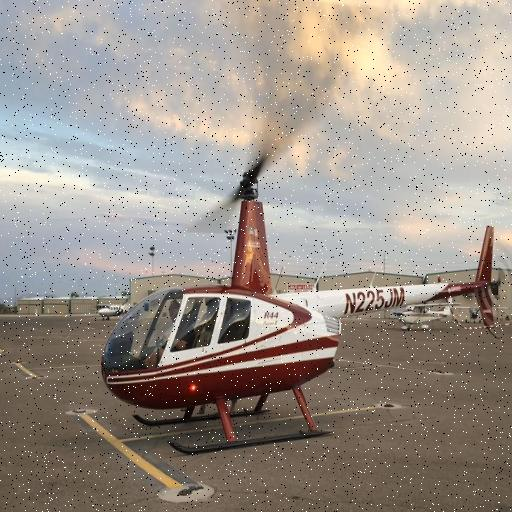helicopter: (97, 152, 512, 466)
